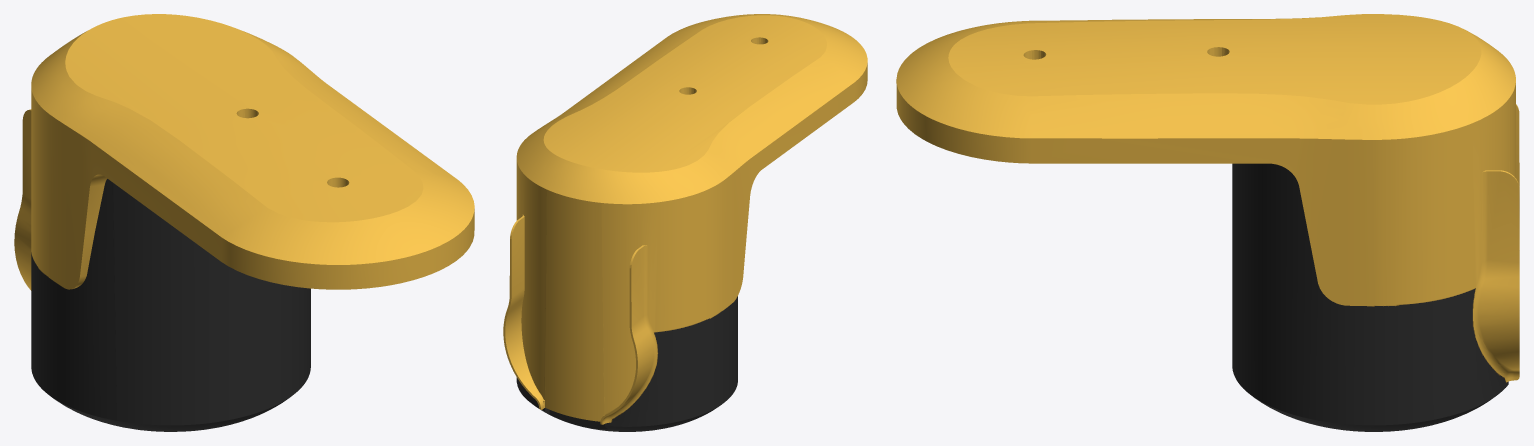
The picture shows the model from 3 angles, left to right: view 1: azimuth 30°, elevation 25°; view 2: azimuth 150°, elevation 25°; view 3: azimuth 270°, elevation 25°; orthographic projection. The views are drawn at different scales.
Visible parts, largest first — view 1: arml5; view 2: arml5; view 3: arml5.
Part boxes in pixels (x1,y1,x2,y2): arml5: (14, 14, 474, 431); arml5: (503, 14, 867, 431); arml5: (896, 14, 1519, 431).
Bounding box in the file's own units: 0.082 × 0.106 × 0.18.
1 material, 1 textured.
